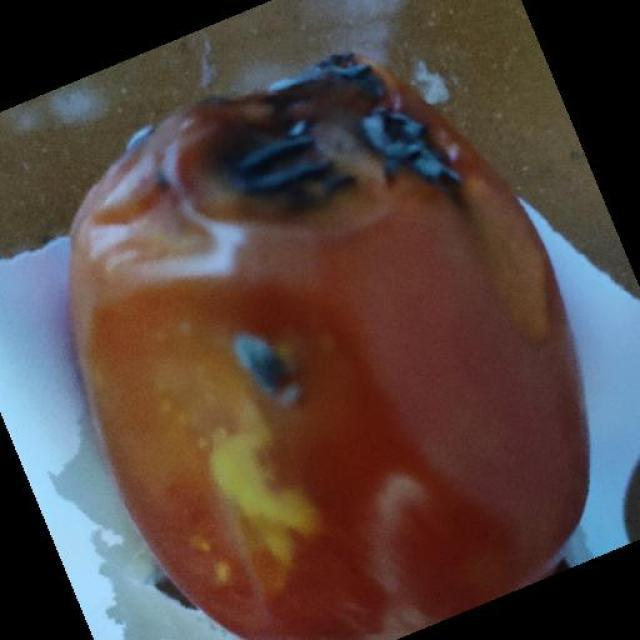Rotten Tomato: (57, 45, 604, 621)
